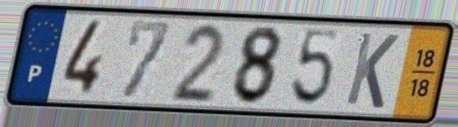2: (168, 21, 229, 105)
4: (60, 18, 105, 98)
5: (287, 26, 344, 109)
7: (119, 17, 173, 102)
8: (231, 24, 285, 107)
K: (342, 30, 402, 113)
